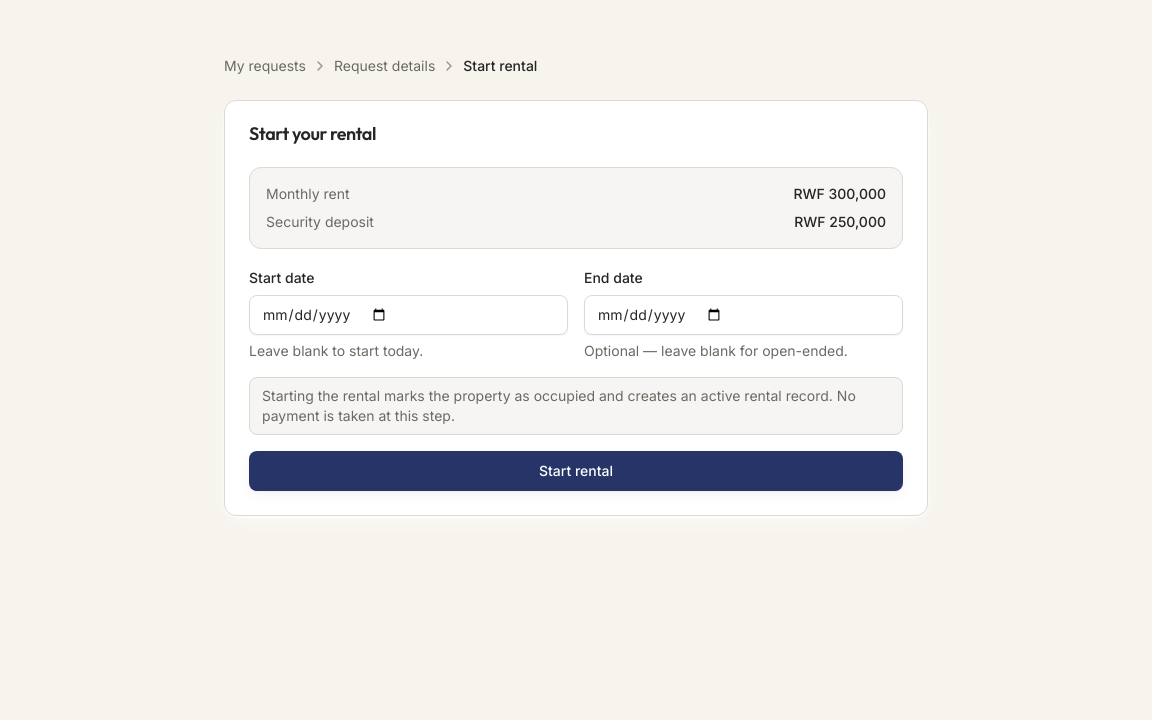
rental conversion › handles RENTAL_ALREADY_EXISTS safely (no success claim)
Click the button "Start rental".
click(576, 471)  # box top-left (249, 451), bottom-right (903, 491)
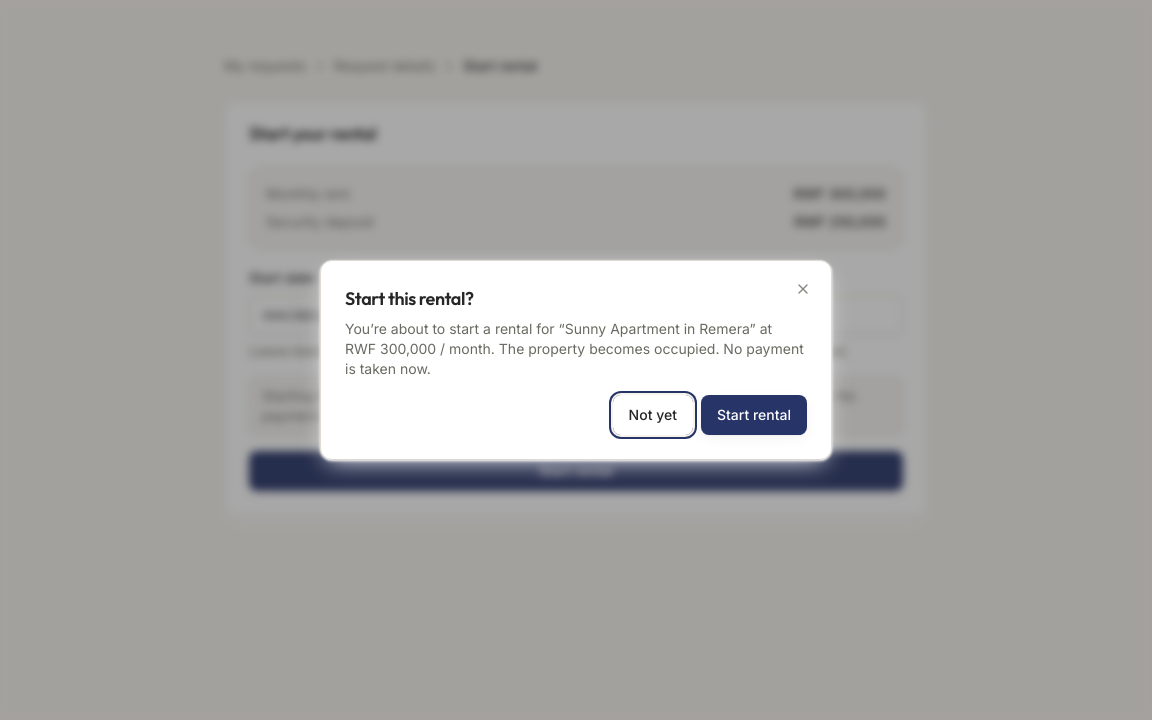
Click the button "Start rental".
click(754, 415)  # box top-left (701, 395), bottom-right (807, 435)
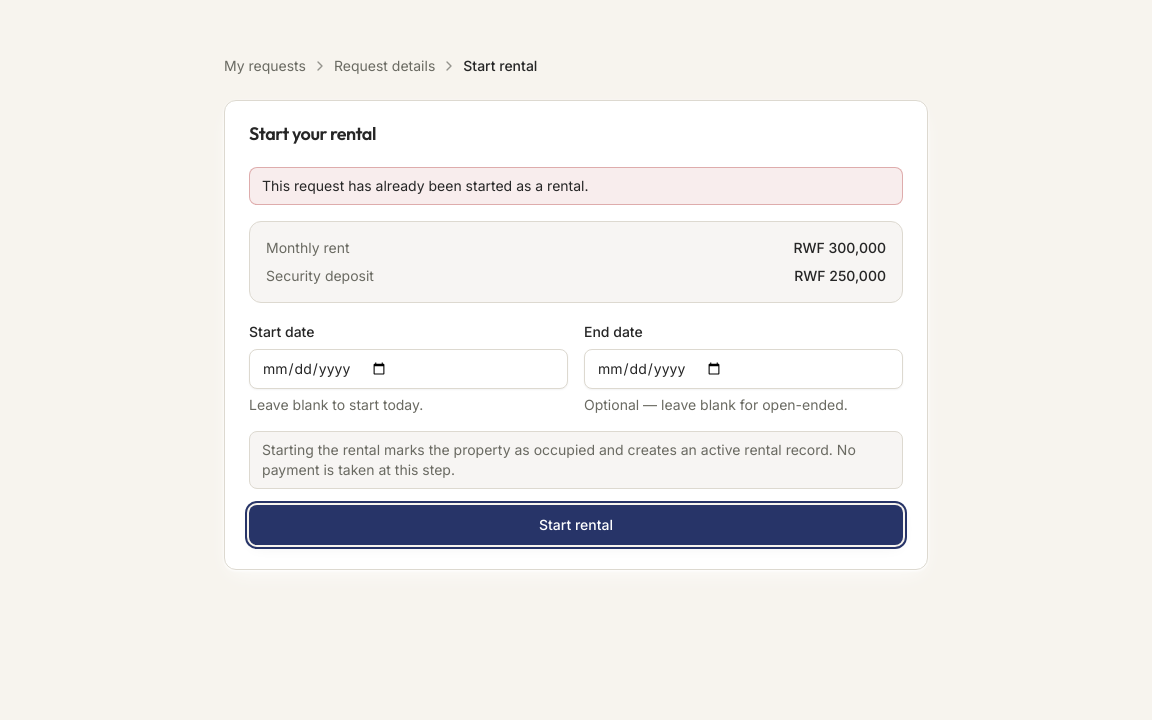
expect the text "This request has already been started as a rental." is shown: met, box top-left (249, 167), bottom-right (903, 205)
